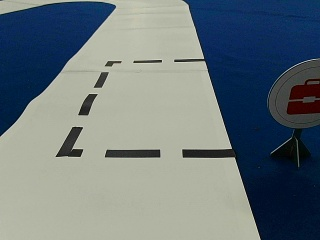company: (267, 59, 318, 126)
